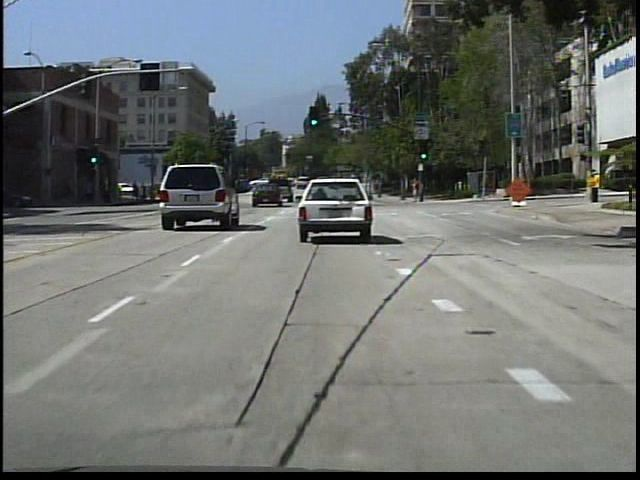person: (408, 174, 425, 208)
